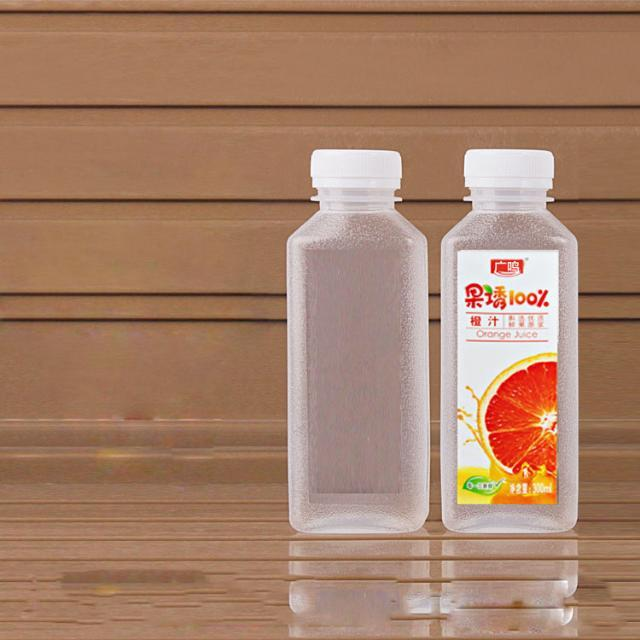Botella de plastico: (283, 147, 433, 534), (444, 151, 580, 538)
